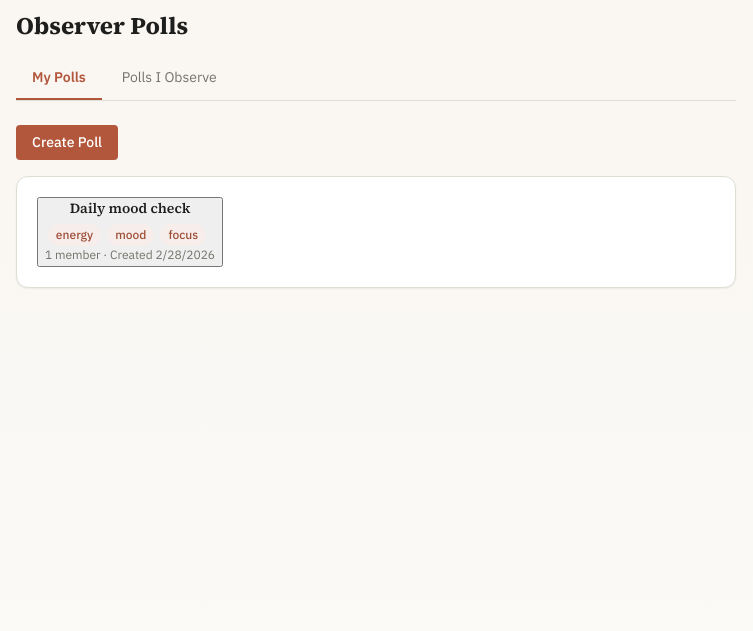
ObserverPolls page › Poll card expansion › shows responses table when responses exist
The image size is (753, 631).
Click the heading "Daily mood check". click: [130, 208]
box: left=70, top=198, right=190, bottom=218
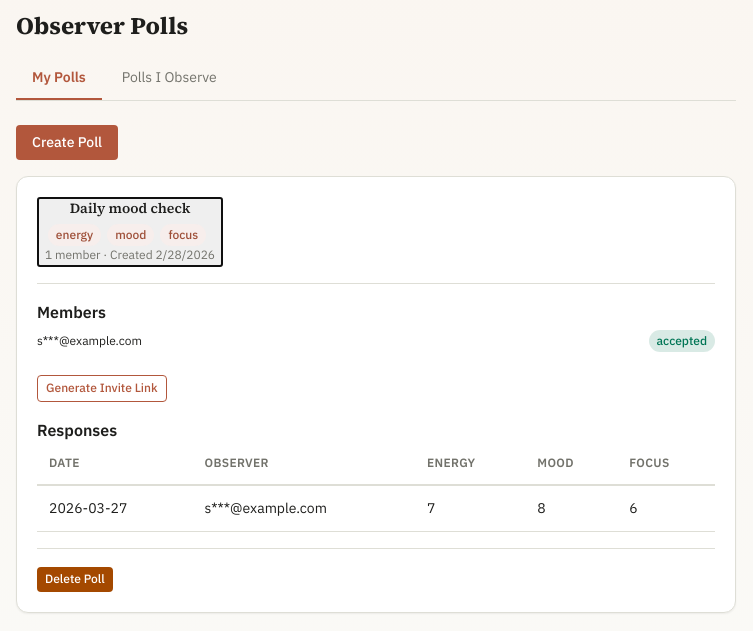
Expected: the text "2026-03-27" is shown, left=37, top=485, right=192, bottom=532
Expected: the text "7" is shown, left=415, top=485, right=525, bottom=532
Expected: the text "8" is shown, left=525, top=485, right=617, bottom=532
